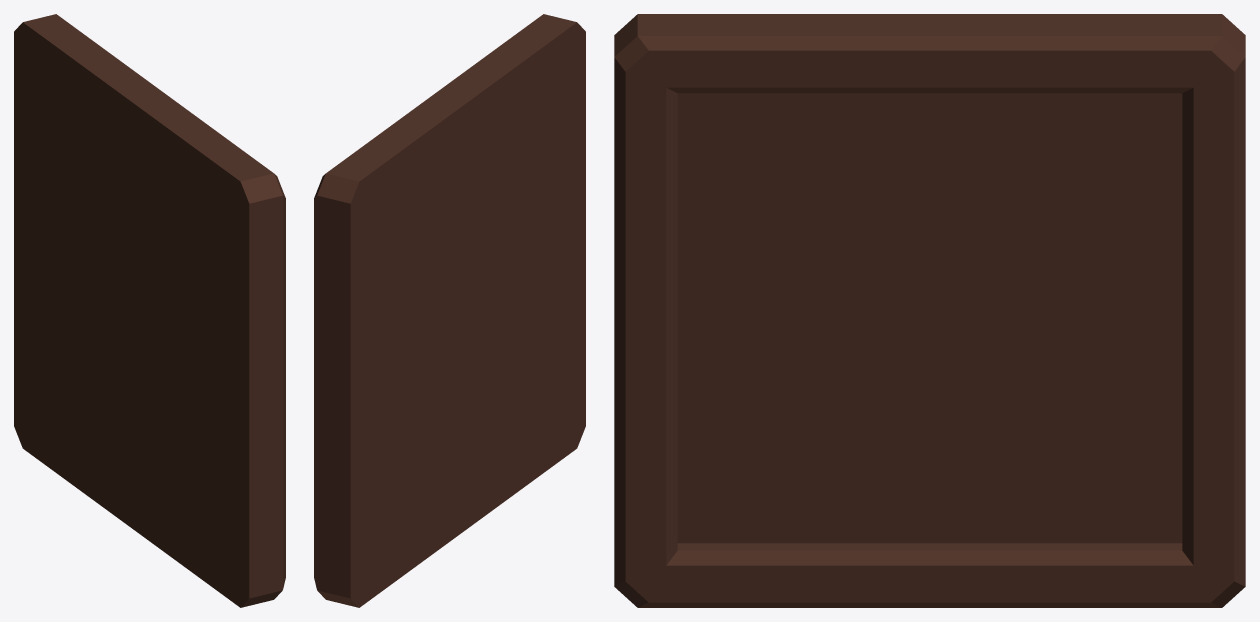
The model's file is schilderij.fbx.
3 views of the same model, side by side, from view 1: azimuth 30°, elevation 25°; view 2: azimuth 150°, elevation 25°; view 3: azimuth 270°, elevation 25° (orthographic). The views are drawn at different scales.
Visible parts, largest first — view 1: Cube; view 2: Cube; view 3: Cube.
Boxes of the visible parts, <box> form: Cube: <box>14,14,285,607</box>; Cube: <box>314,14,585,607</box>; Cube: <box>614,14,1245,607</box>.
Bounding box in the file's own units: 0.0667 × 0.6667 × 0.6667.
